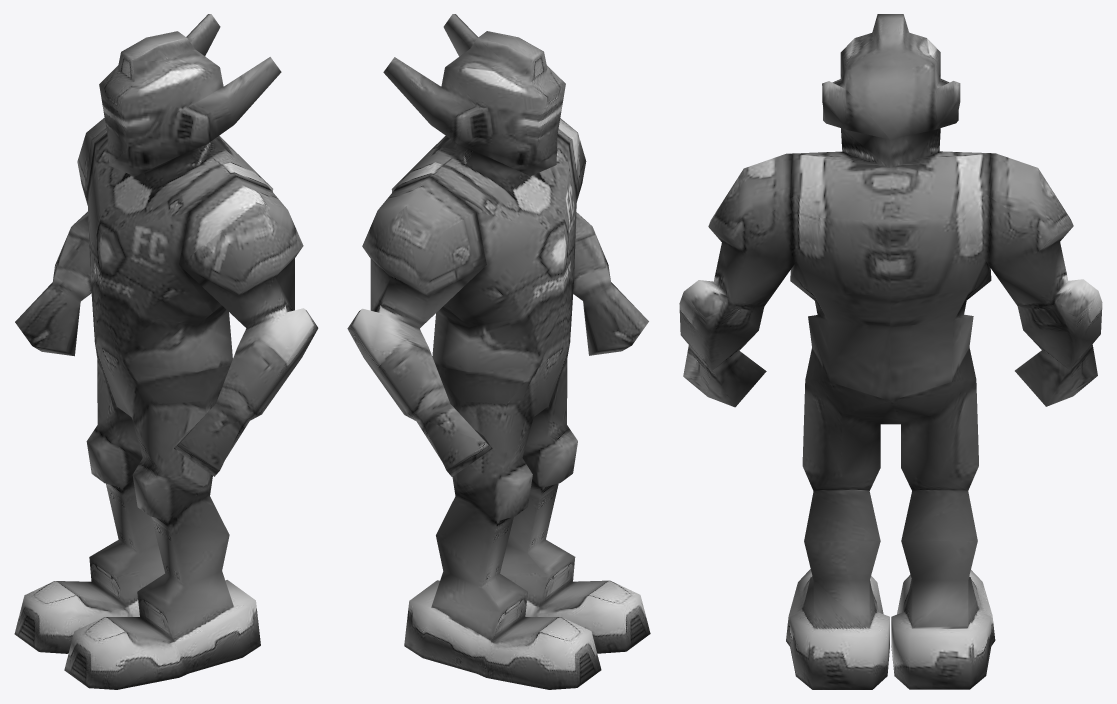
Rendered from fuzeball_player_stormer_lowPoly.glb.
The picture shows the model from 3 angles, left to right: view 1: azimuth 30°, elevation 25°; view 2: azimuth 150°, elevation 25°; view 3: azimuth 270°, elevation 25°; orthographic projection. The views are drawn at different scales.
Parts seen in each view (by area): view 1: room_cab2_body.001; view 2: room_cab2_body.001; view 3: room_cab2_body.001.
Part boxes in pixels (x1,y1,x2,y2): room_cab2_body.001: (14, 14, 318, 689); room_cab2_body.001: (347, 14, 650, 689); room_cab2_body.001: (679, 14, 1102, 689).
Bounding box in the file's own units: 4.1 × 11.67 × 7.06.
1 material, 1 textured.
